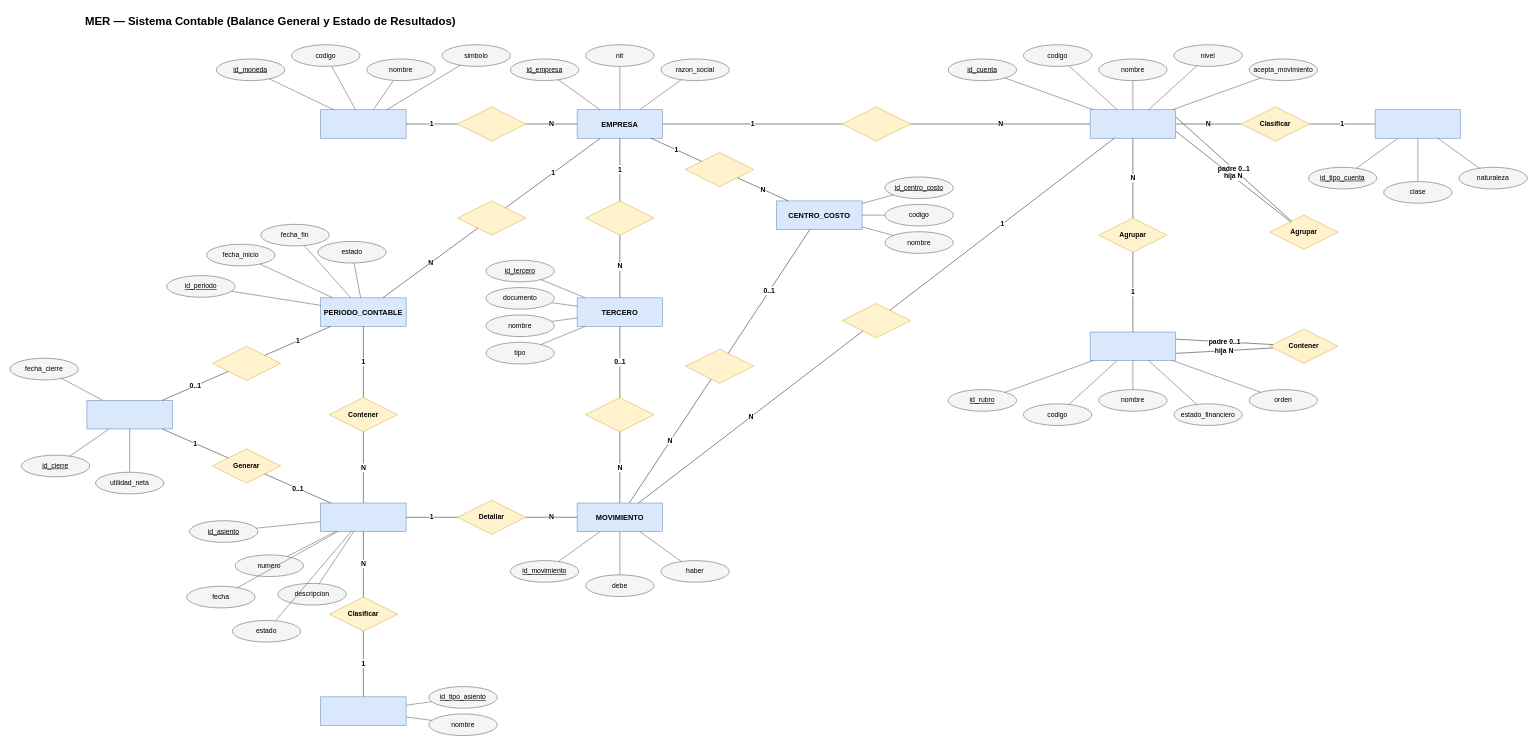
Image size: 1537x746. Some labels were removed from this diagram. The shapes that lost their labels are listed below. From the top down, each one's centre as x and y in pixels, then its label:
At (363,123): "MONEDA".
At (491,123): "Usar".
At (876,123): "Definir".
At (1133,123): "PLAN_CUENTA".
At (1418,123): "TIPO_CUENTA".
At (719,169): "Administrar".
At (491,217): "Tener".
At (619,217): "Registrar".
At (876,320): "Afectar".
At (246,363): "Cerrar".
At (719,366): "Asignar".
At (1133,346): "RUBRO_ESTADO".
At (129,414): "CIERRE_PERIODO".
At (619,414): "Involucrar".
At (363,517): "ASIENTO".
At (363,710): "TIPO_ASIENTO".
